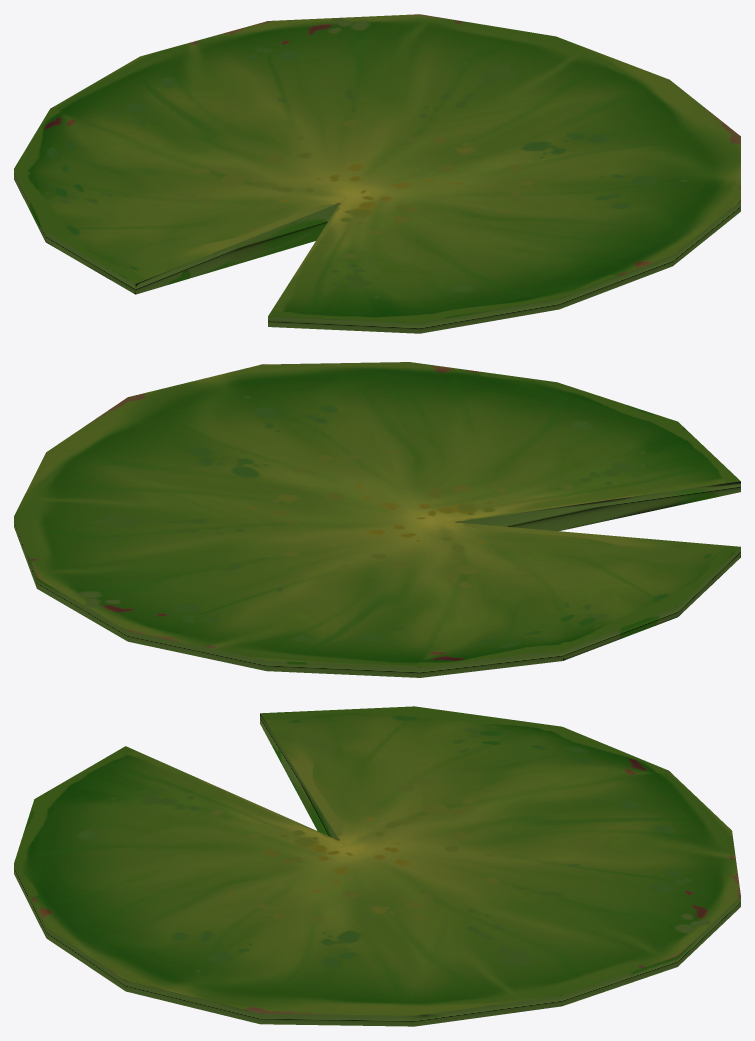
The model's file is SM_LilyPad.glb.
3 renders of one model, top to bottom at view 1: azimuth 30°, elevation 25°; view 2: azimuth 150°, elevation 25°; view 3: azimuth 270°, elevation 25°, orthographic.
Parts seen in each view (by area): view 1: SM_LilyPad; view 2: SM_LilyPad; view 3: SM_LilyPad.
Part boxes in pixels (x1,y1,x2,y2): SM_LilyPad: [14, 14, 740, 333]; SM_LilyPad: [14, 362, 740, 677]; SM_LilyPad: [14, 706, 740, 1026].
Bounding box in the file's own units: 0.0196 × 0.00113 × 0.0195.
1 material, 1 textured.
